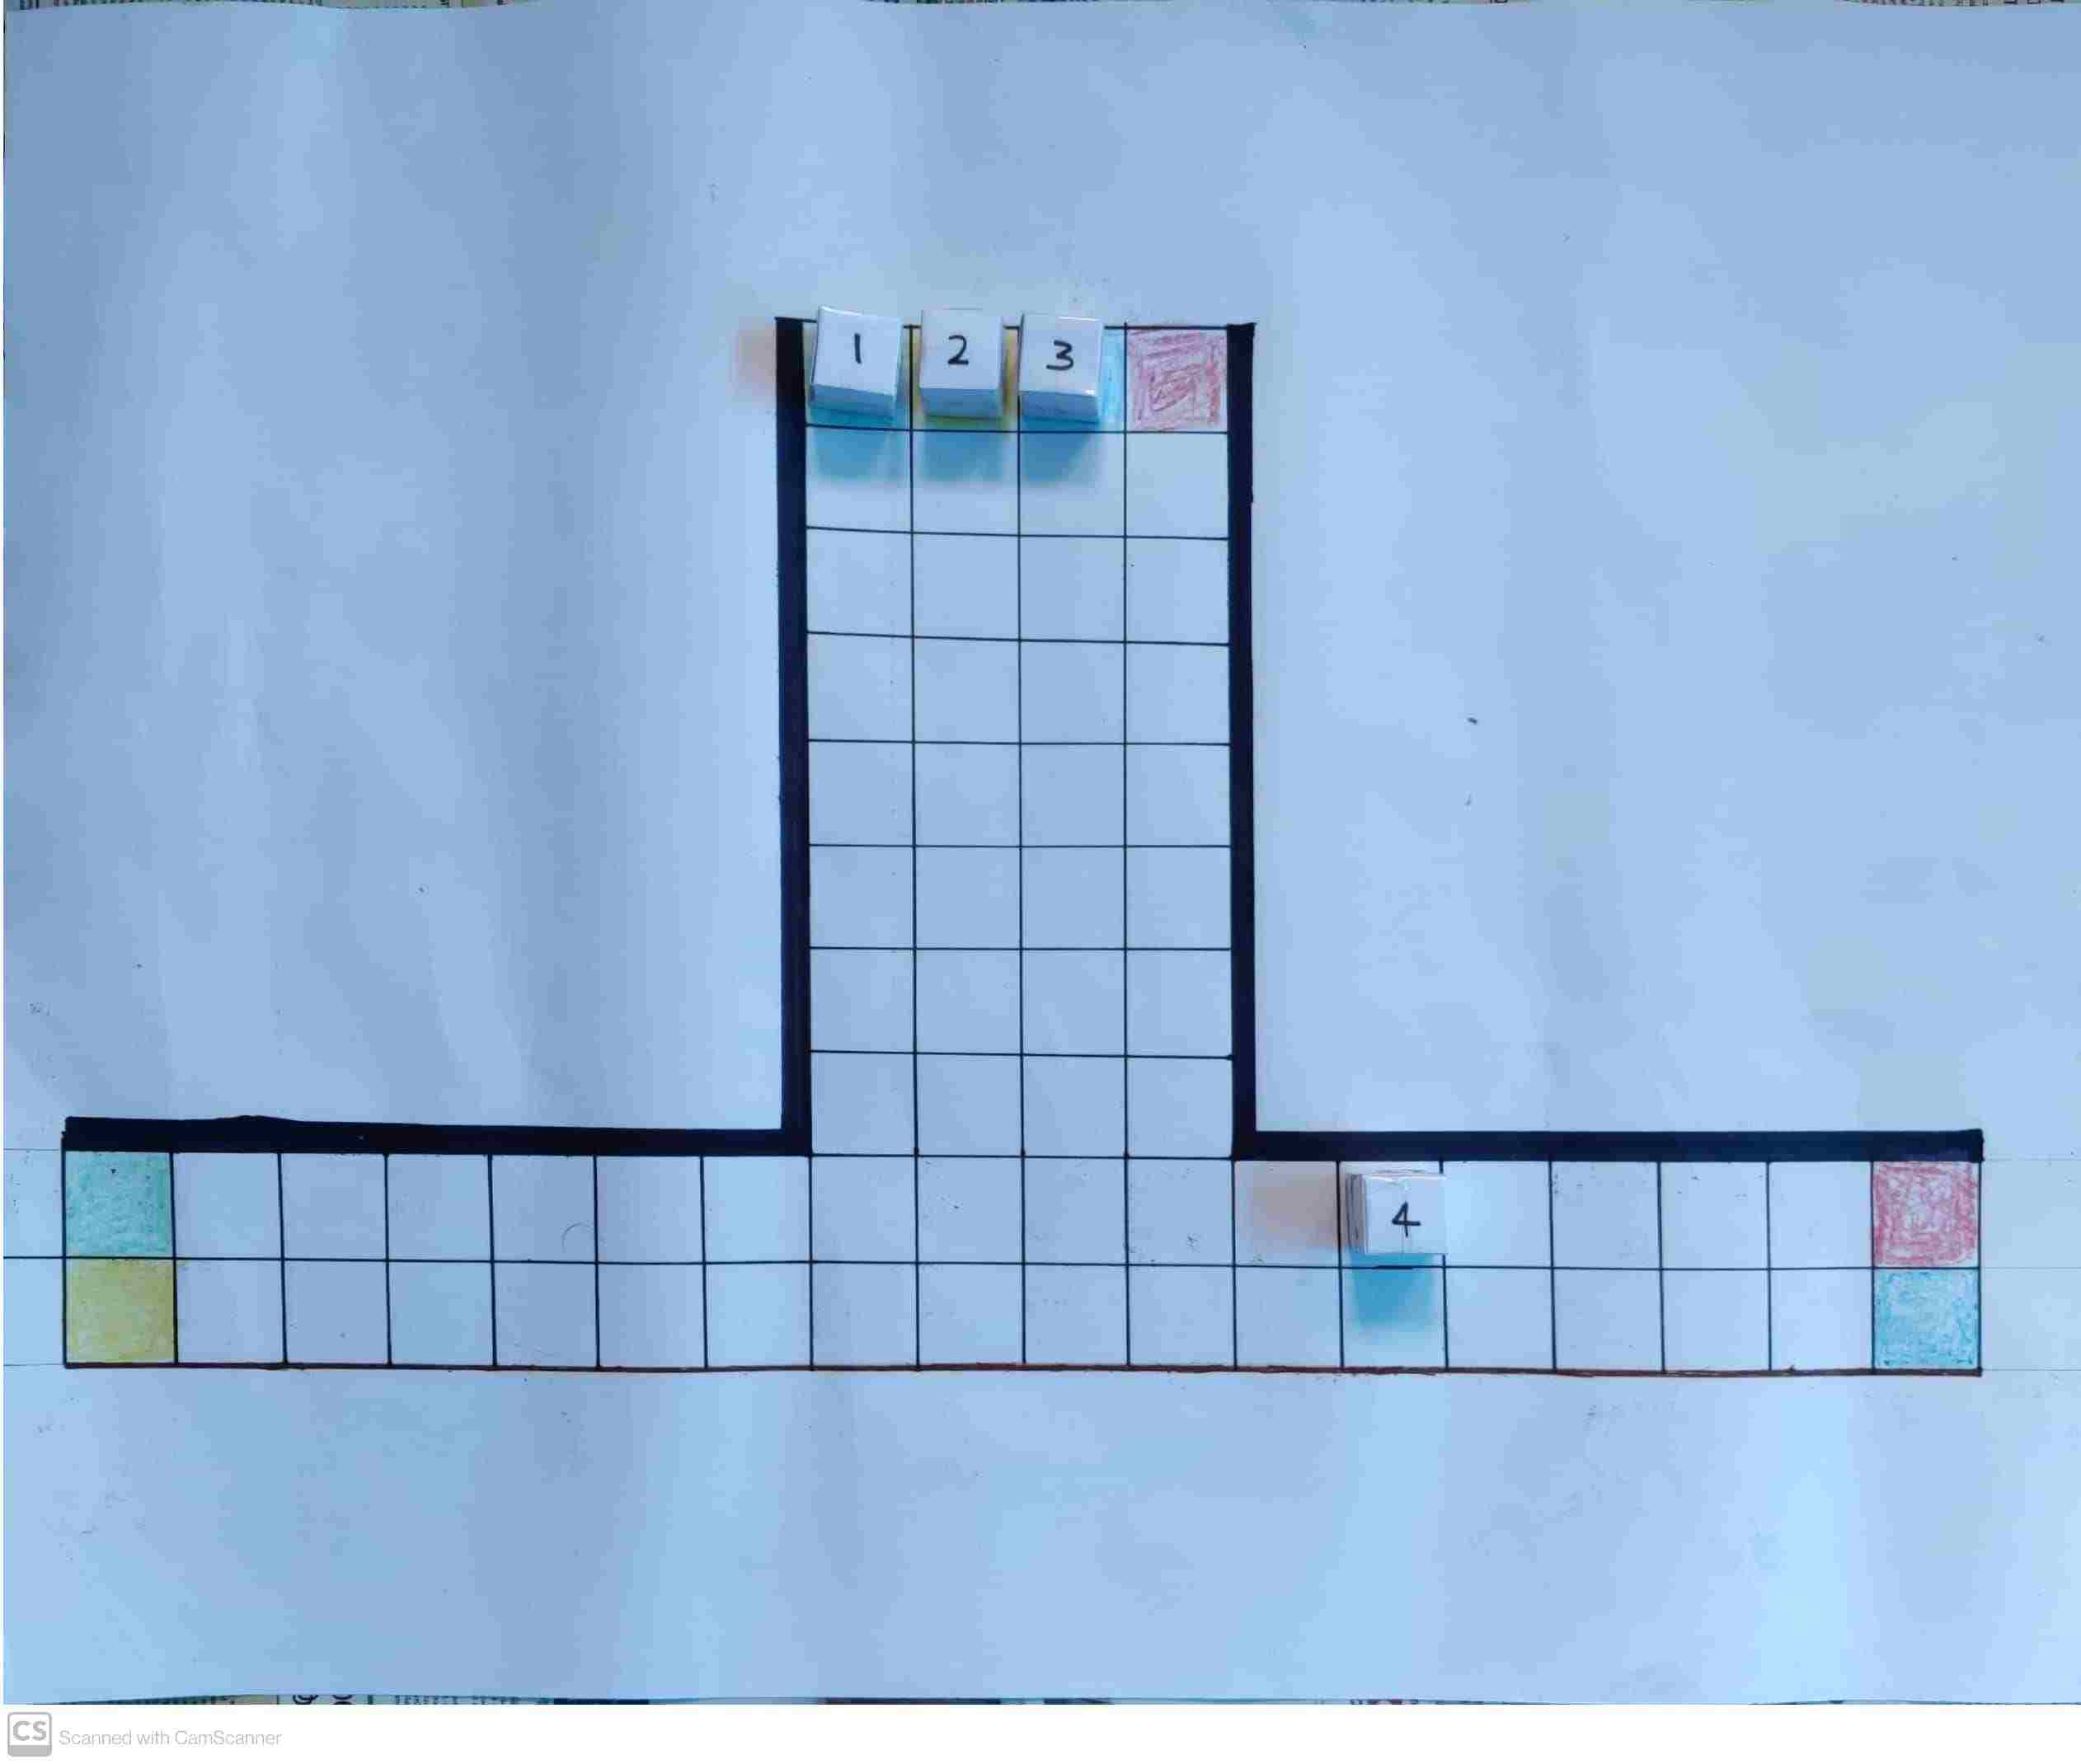arena: (61, 313, 1983, 1379)
bot: (1360, 1174, 1449, 1253), (814, 311, 901, 390), (1022, 315, 1101, 394), (922, 311, 1001, 387)
